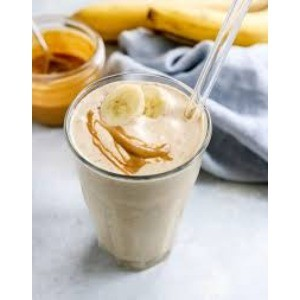peanut butter_brain food: (73, 94, 206, 246), (43, 17, 100, 86)
